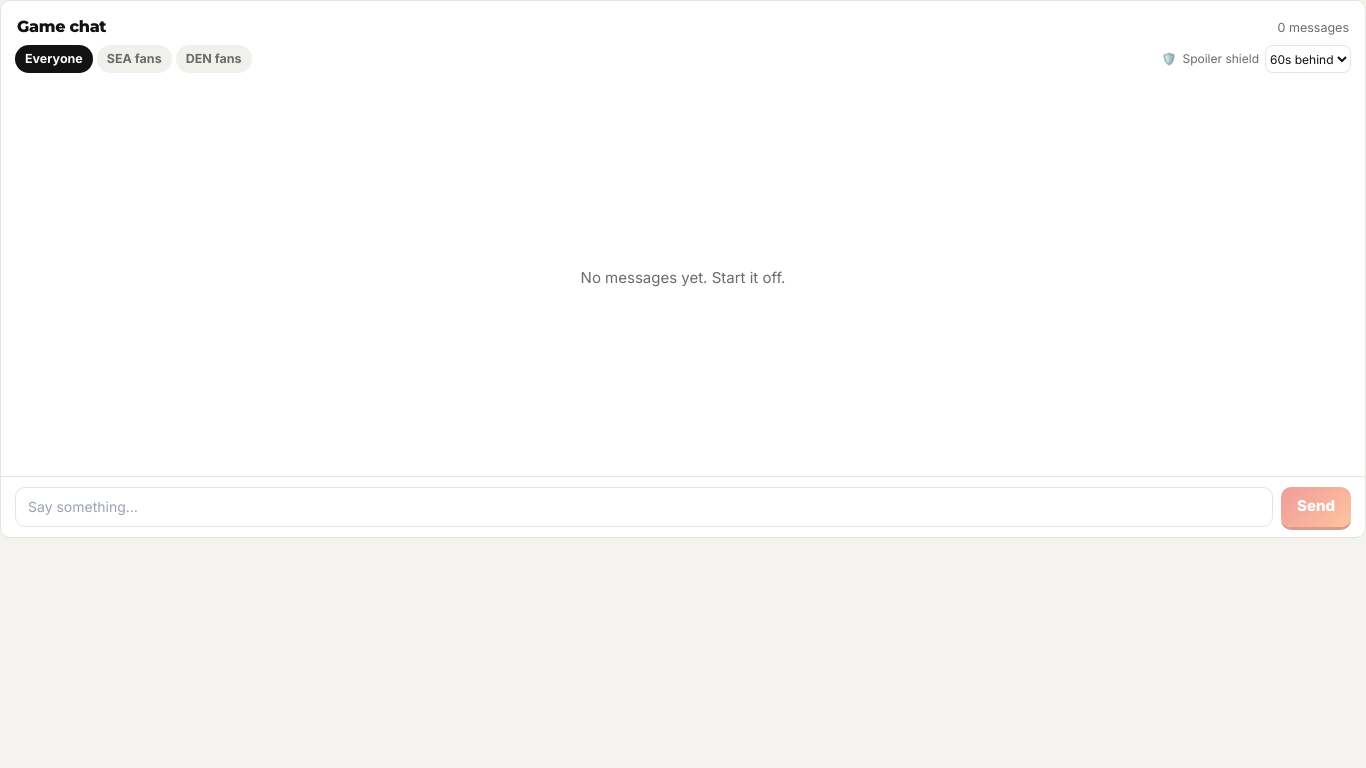
Test: ChatPanel › keeps your own message visible with the spoiler shield on
Type "mine" into the field named "Chat message". click: [644, 507]
box: [15,487,1273,527]
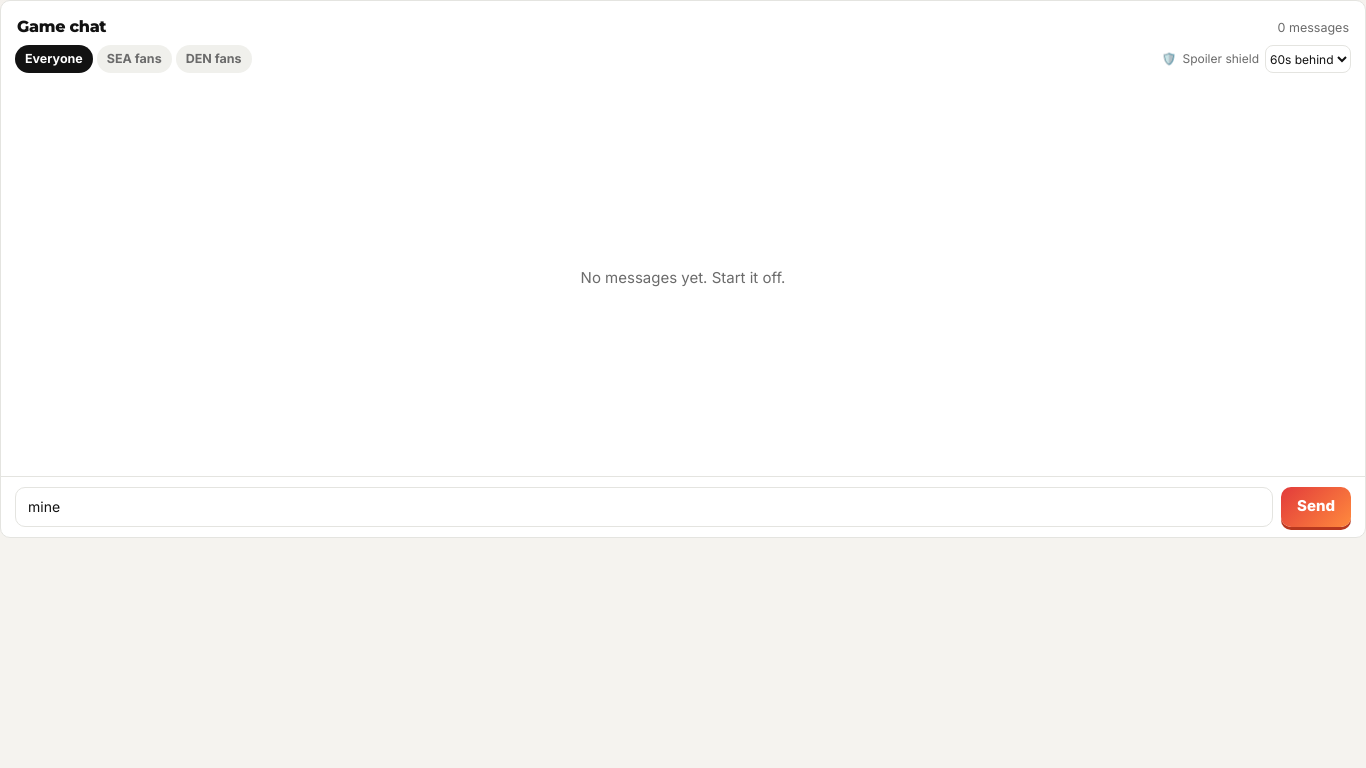
Click the button "Send". click: [1316, 507]
box: [1281,487,1351,527]
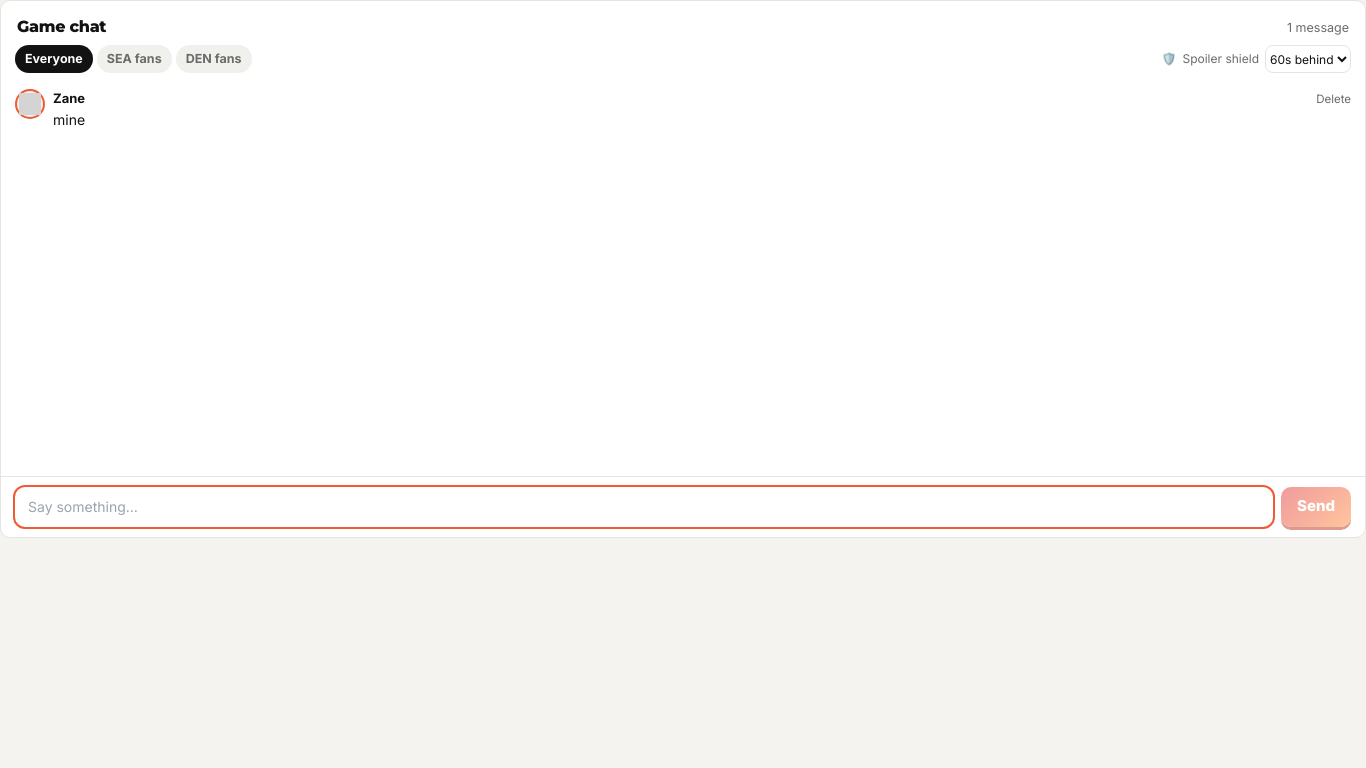
Check: the text "mine" is shown, box [53,110,85,128]
